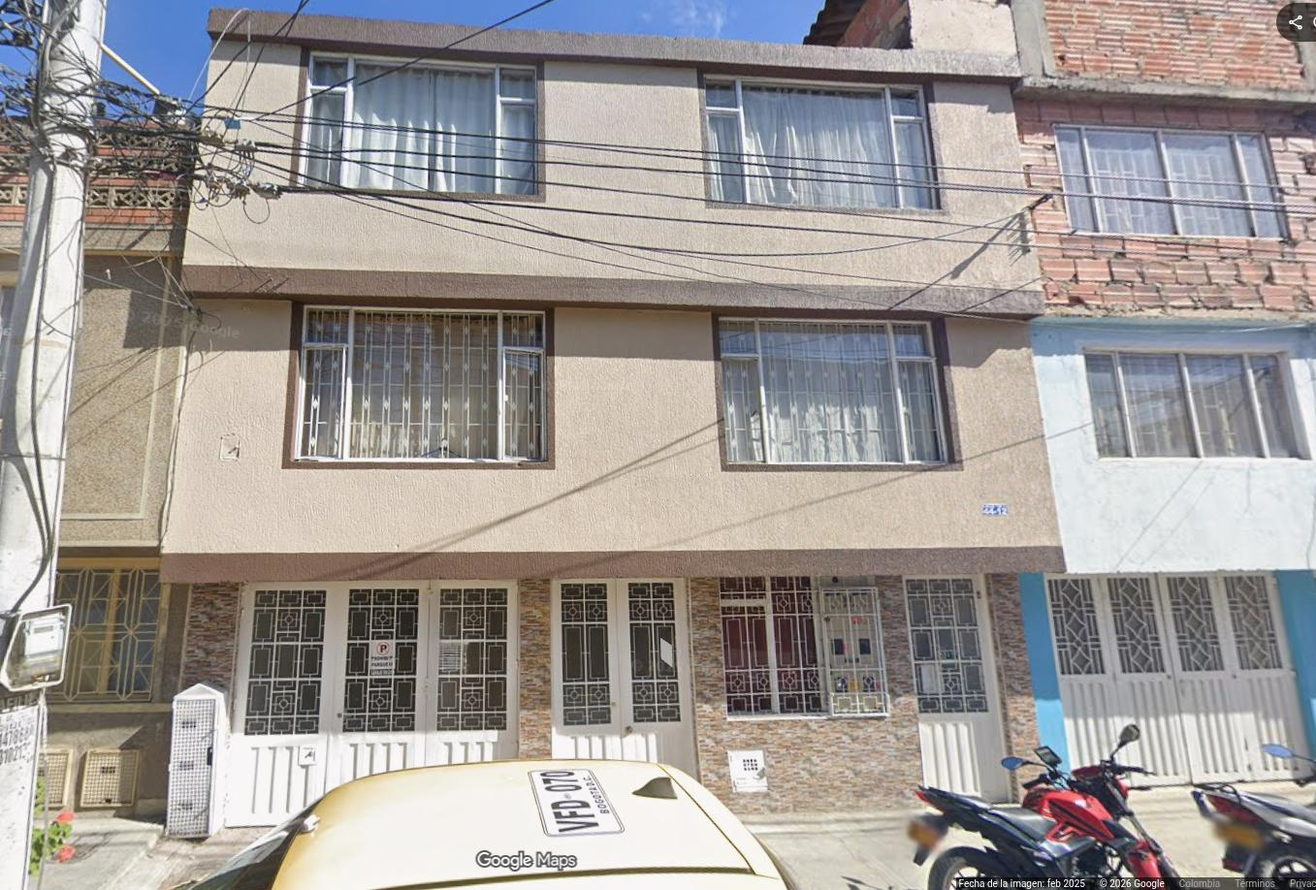casa: (159, 3, 1065, 824), (1013, 0, 1315, 782)
poste: (0, 0, 106, 650), (0, 680, 45, 889)
